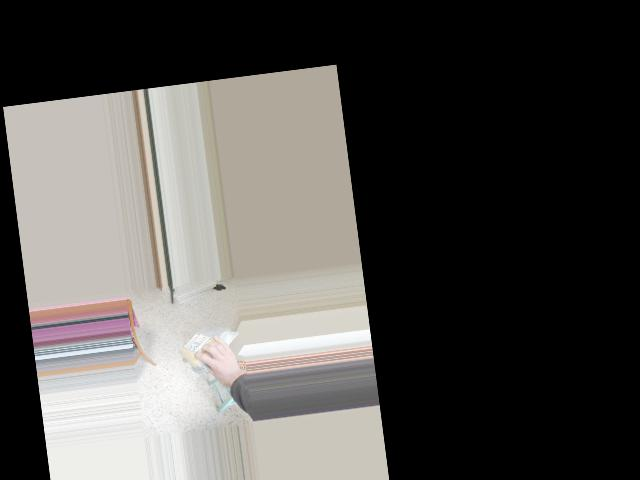cheese: (169, 326, 241, 364)
